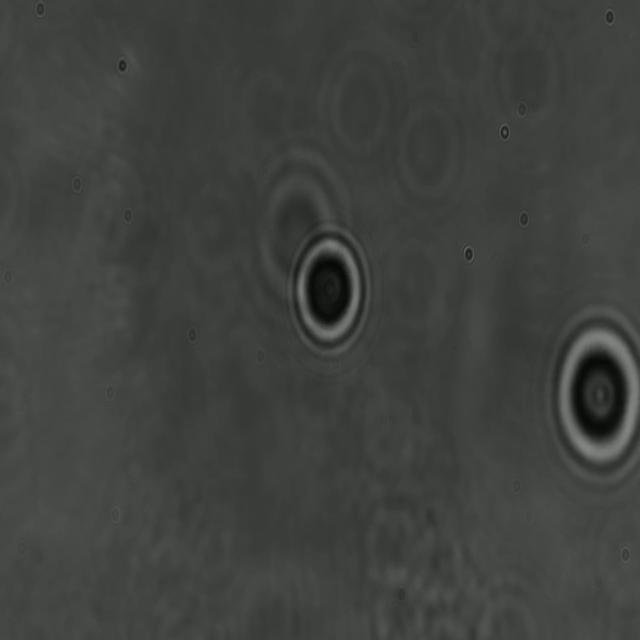DCELL: (289, 226, 371, 358)
